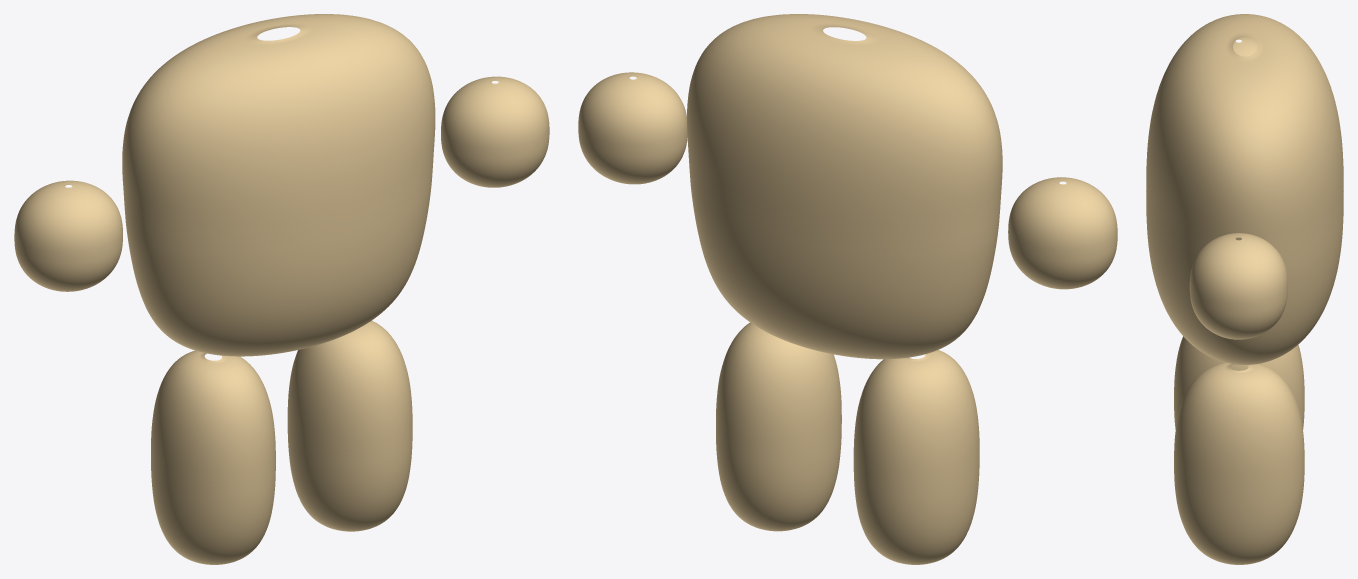
The model's file is body-Feminine-tapered.glb.
3 views of the same model, side by side, from view 1: azimuth 30°, elevation 25°; view 2: azimuth 150°, elevation 25°; view 3: azimuth 270°, elevation 25° (orthographic). The views are drawn at different scales.
Parts seen in each view (by area): view 1: Skin / tapered torso, Skin / leg -1, Skin / leg 1, Skin / hand -1, Skin / hand 1; view 2: Skin / tapered torso, Skin / leg -1, Skin / leg 1, Skin / hand -1, Skin / hand 1; view 3: Skin / tapered torso, Skin / leg 1, Skin / hand 1, Skin / leg -1, Skin / hand -1.
Boxes of the visible parts, box(x1,y1,x2,y2) form: Skin / tapered torso: box(122, 14, 435, 356); Skin / leg -1: box(151, 350, 275, 564); Skin / leg 1: box(287, 320, 412, 531); Skin / hand -1: box(14, 180, 122, 291); Skin / hand 1: box(441, 76, 549, 187); Skin / tapered torso: box(687, 14, 1002, 359); Skin / leg -1: box(853, 350, 979, 564); Skin / leg 1: box(716, 322, 841, 531); Skin / hand -1: box(1008, 177, 1117, 289); Skin / hand 1: box(578, 72, 687, 184); Skin / tapered torso: box(1146, 14, 1343, 364); Skin / leg 1: box(1174, 362, 1304, 564); Skin / hand 1: box(1189, 233, 1287, 339); Skin / leg -1: box(1174, 336, 1304, 429); Skin / hand -1: box(1233, 37, 1256, 56).
Size of the model in its own units: 1.42 by 1.31 by 0.49.
